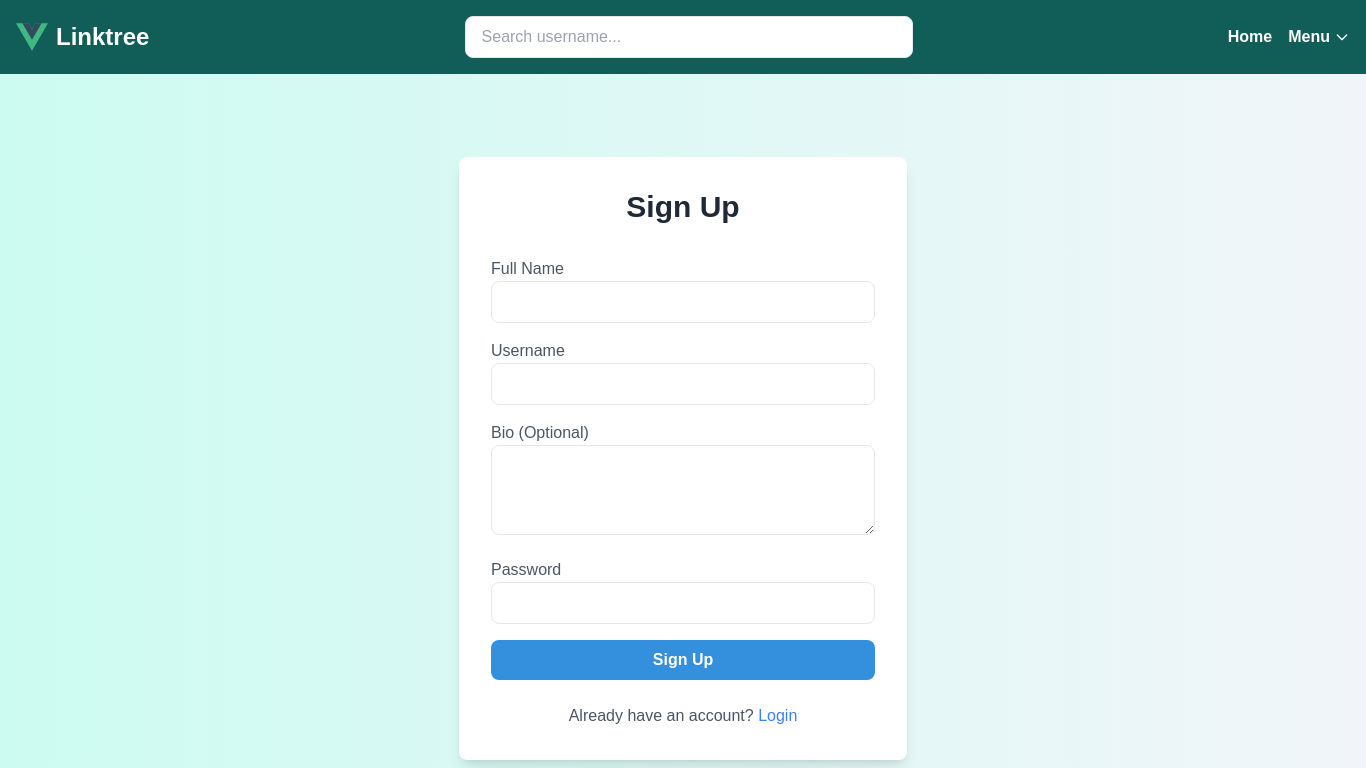
Test case: Signup Flow › should show error for invalid signup
This screenshot has width=1366, height=768.
Type "Test User" into the field with test id "fullname-input" at (683, 302), box [491,281,875,323]
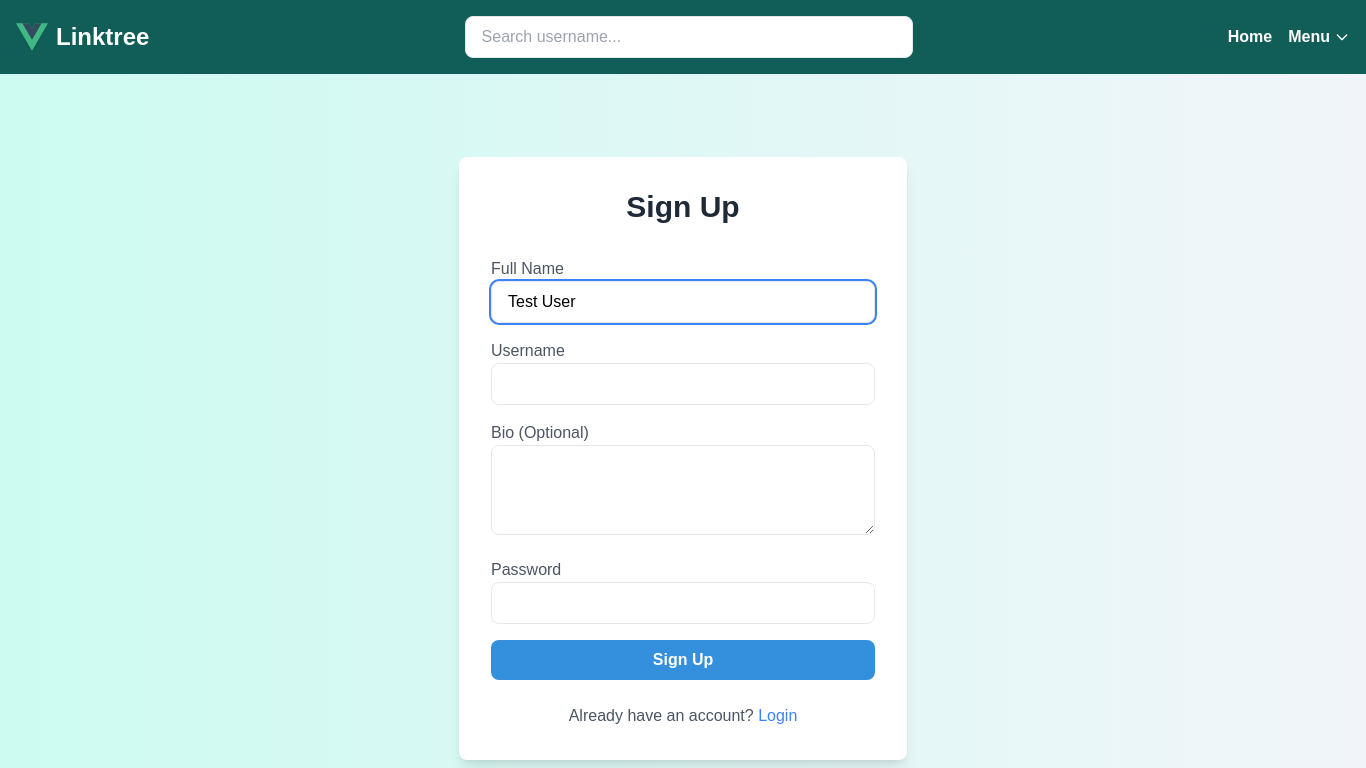
Type "testuser" into the field with test id "username-input" at (683, 384), box [491,363,875,405]
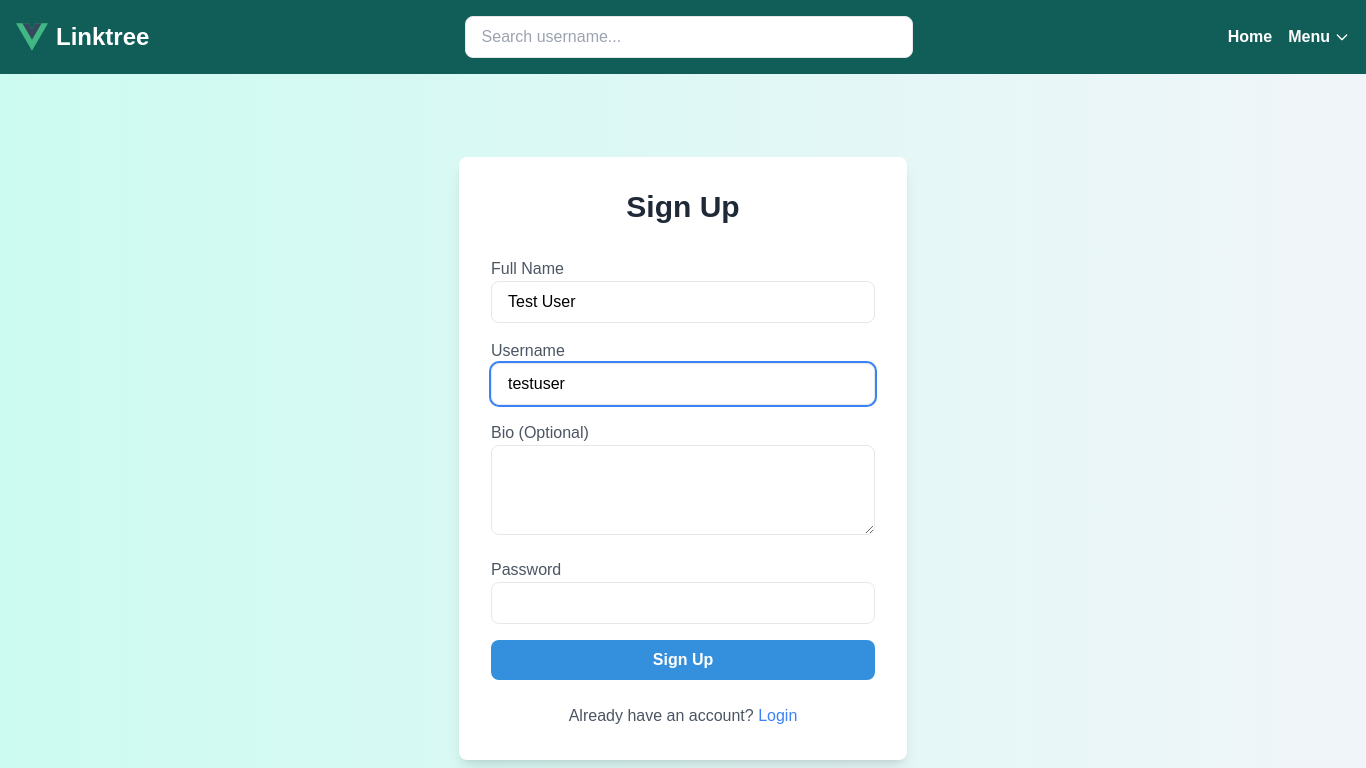
Type "Test bio" into the text box with test id "bio-input" at (683, 490), box [491,445,875,535]
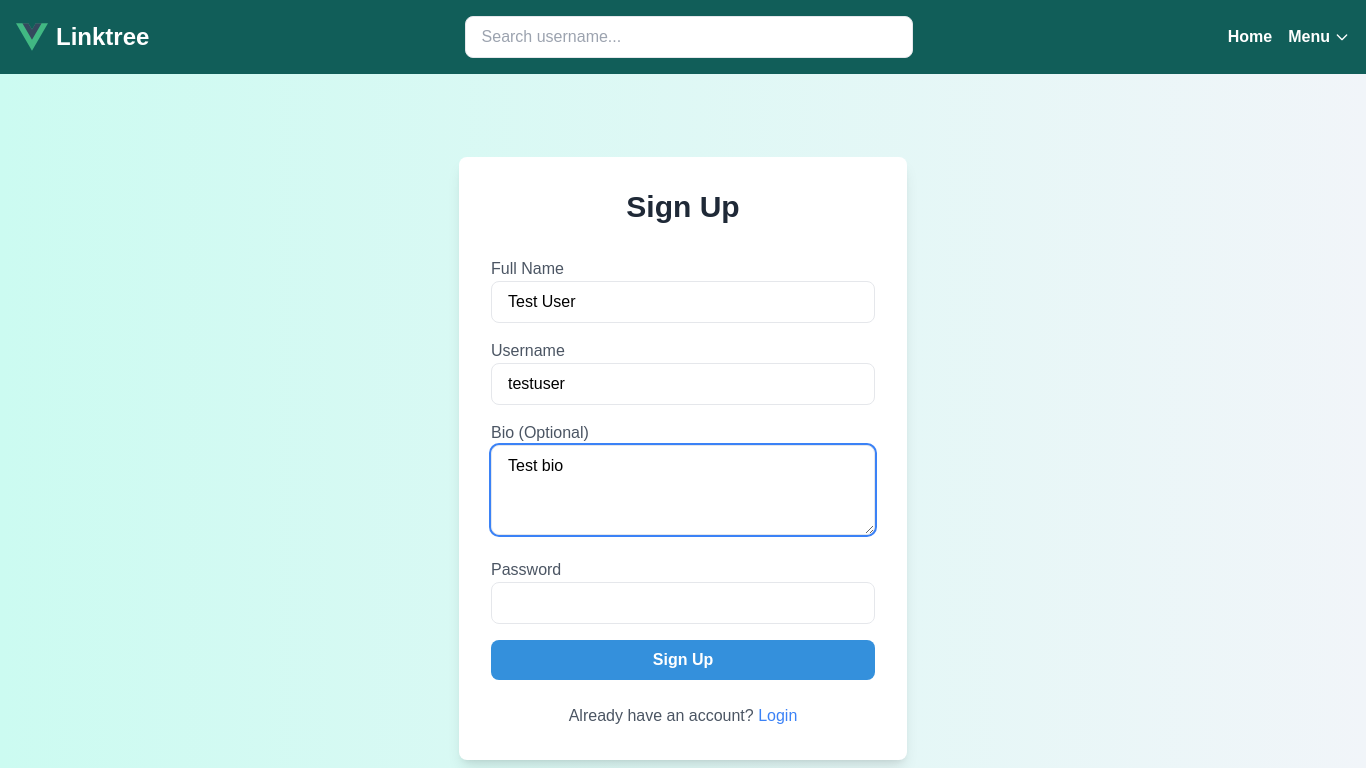
Type "short" into the password field with test id "password-input" at (683, 603), box [491,582,875,624]
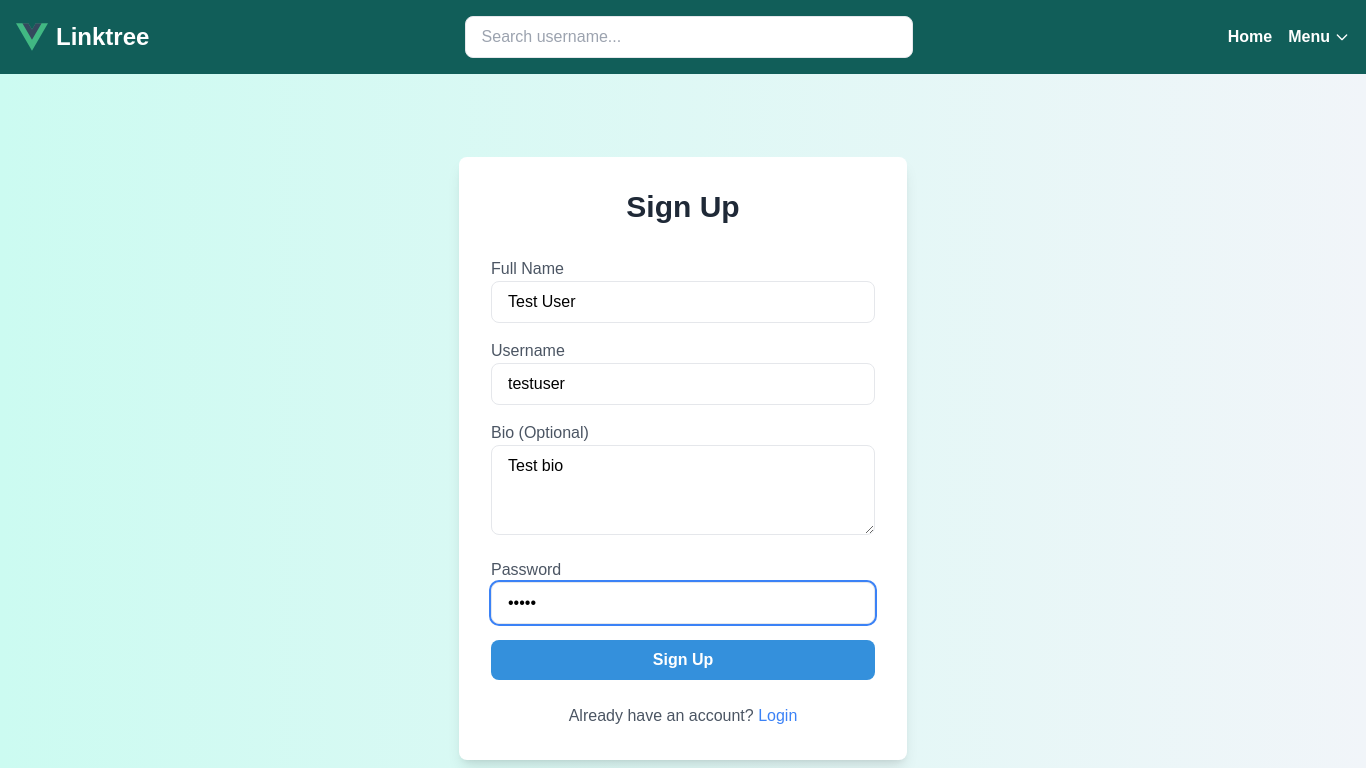
Click the button with test id "signup-button" at (683, 660), box [491,640,875,680]
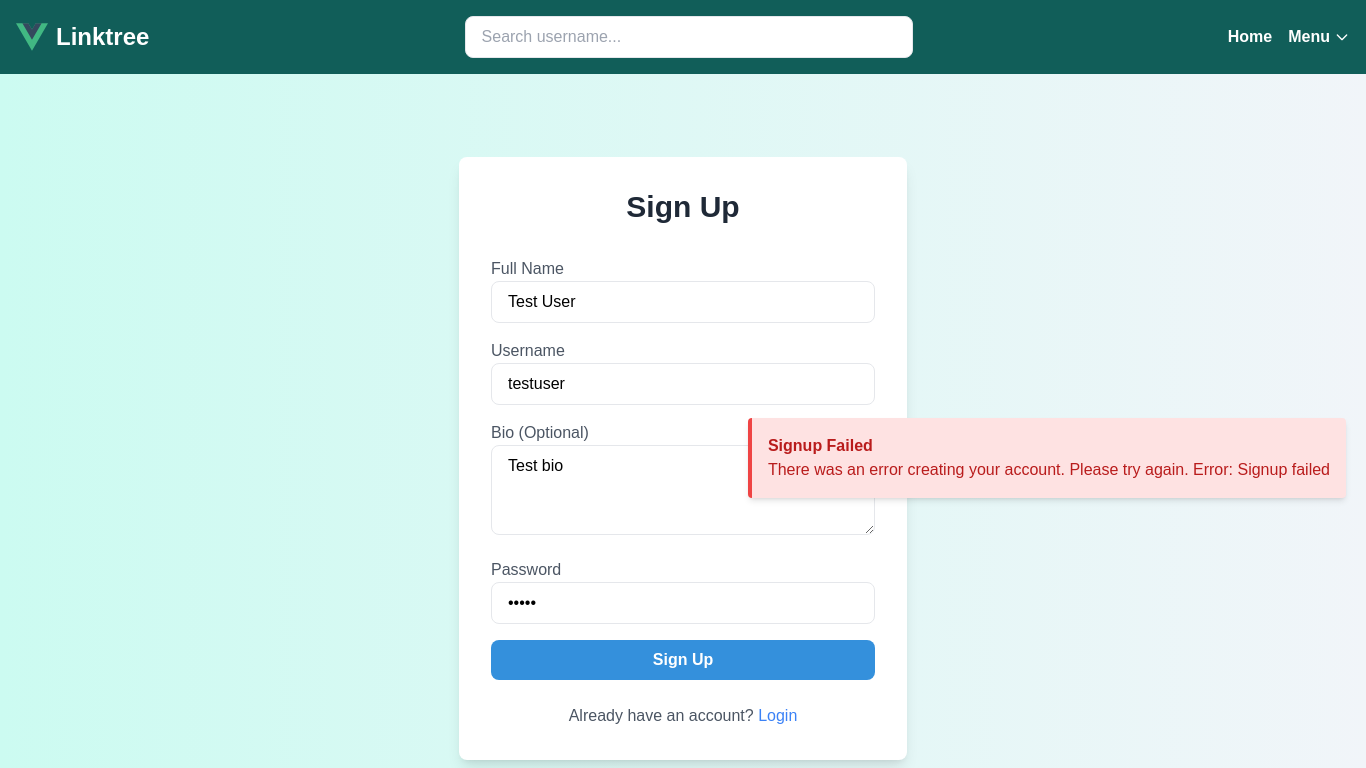
Now the element with class "fixed" is shown, box [748,418,1346,498]
Now the text with class "fixed" reads "Signup Failed", box [768,437,873,454]
